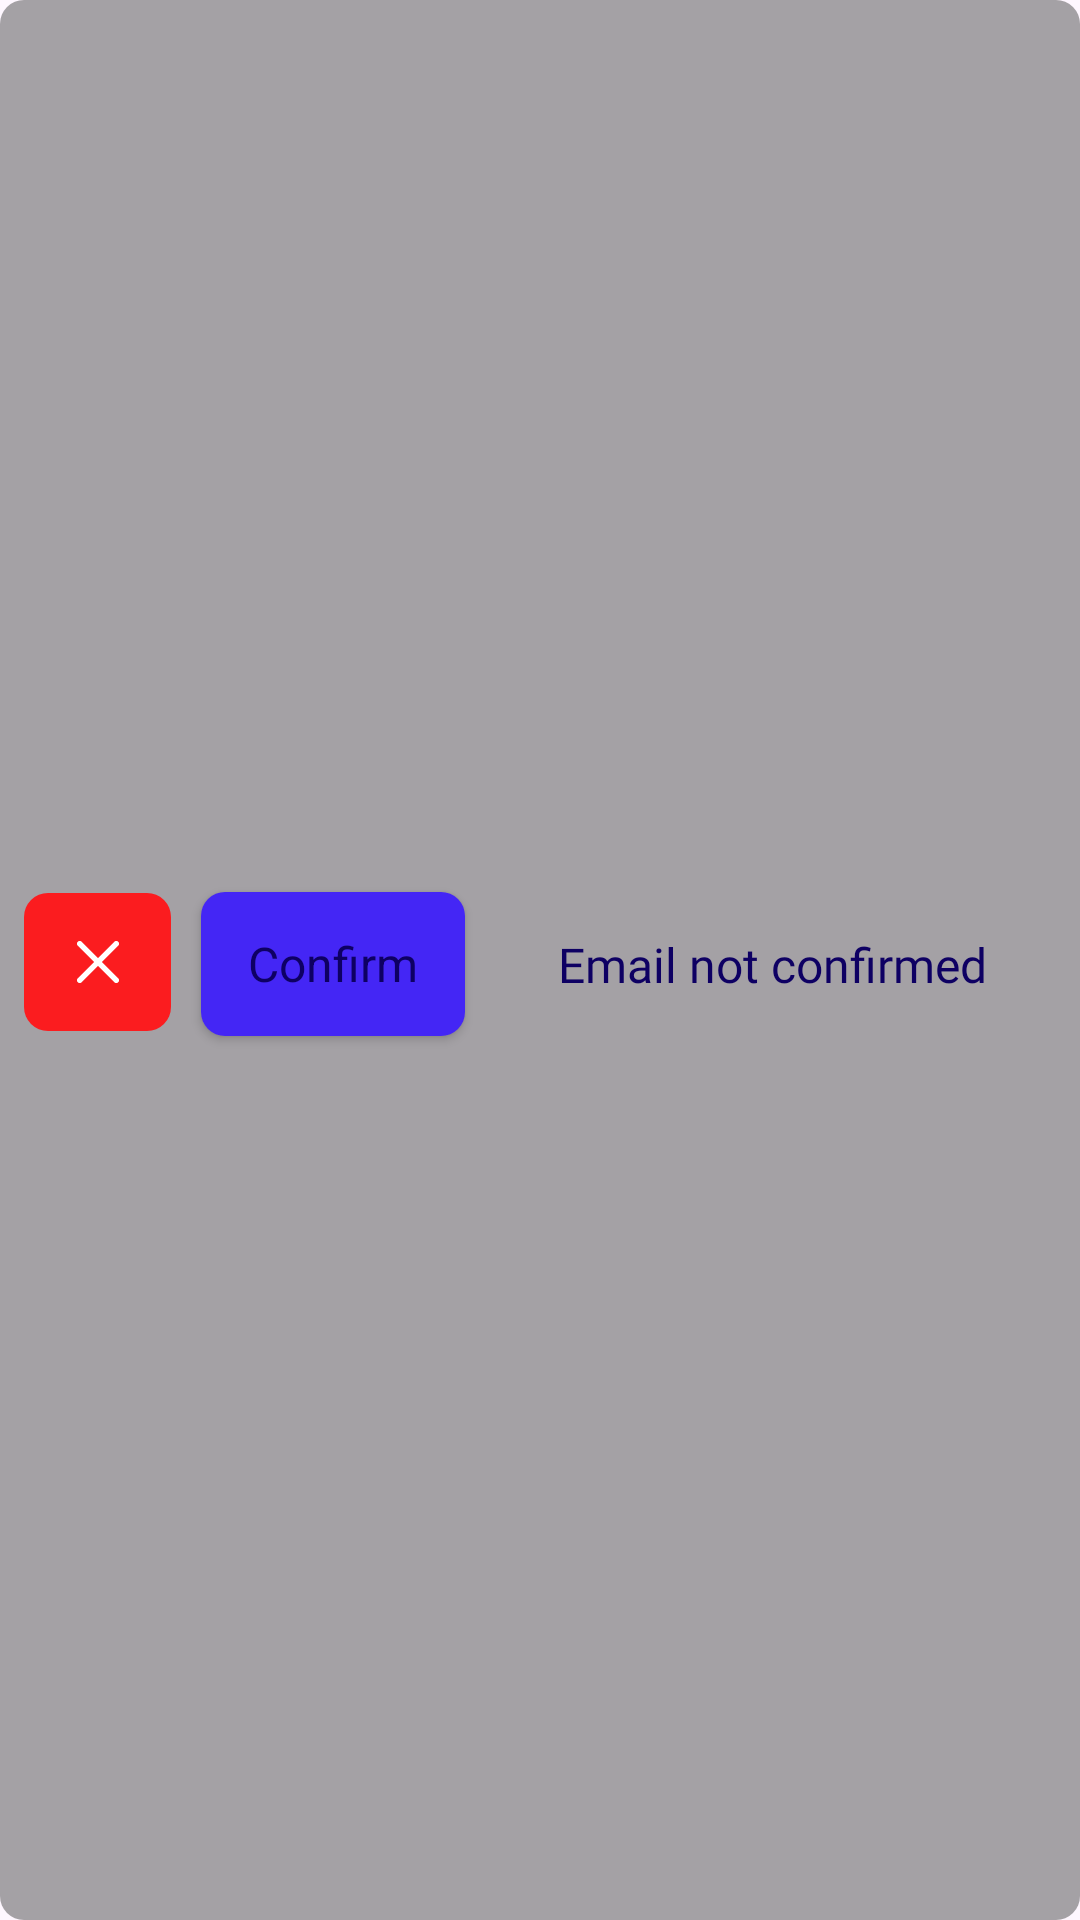

Where icons sit on this 1080px×1920px app screen, as (x1, y1, x2, y2):
close: (24, 893, 171, 1031)
